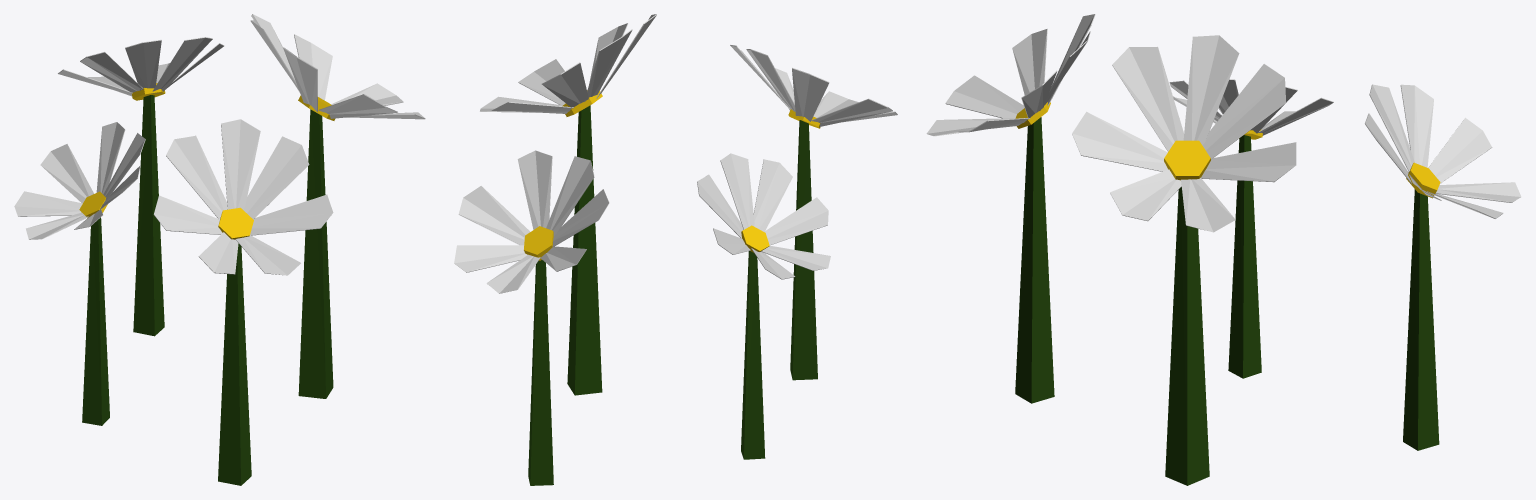
File: Daisy.obj
3 renders of one model, left to right at view 1: azimuth 30°, elevation 25°; view 2: azimuth 150°, elevation 25°; view 3: azimuth 270°, elevation 25°, orthographic. The views are drawn at different scales.
Visible parts, largest first — view 1: Daisys_Circle.003; view 2: Daisys_Circle.003; view 3: Daisys_Circle.003.
Boxes of the visible parts, <box> form: Daisys_Circle.003: <box>14,14,425,485</box>; Daisys_Circle.003: <box>454,14,897,485</box>; Daisys_Circle.003: <box>926,14,1521,485</box>.
Bounding box in the file's own units: 1.17 × 1.17 × 1.53.
